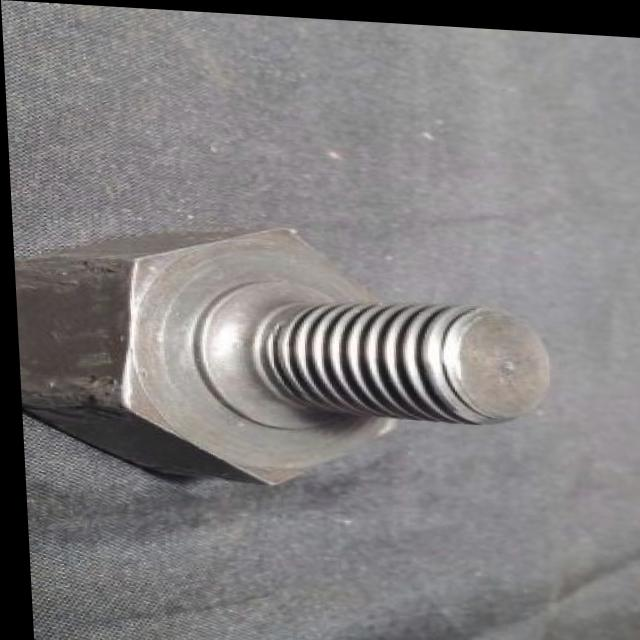Regular bolt: (10, 213, 506, 493)
